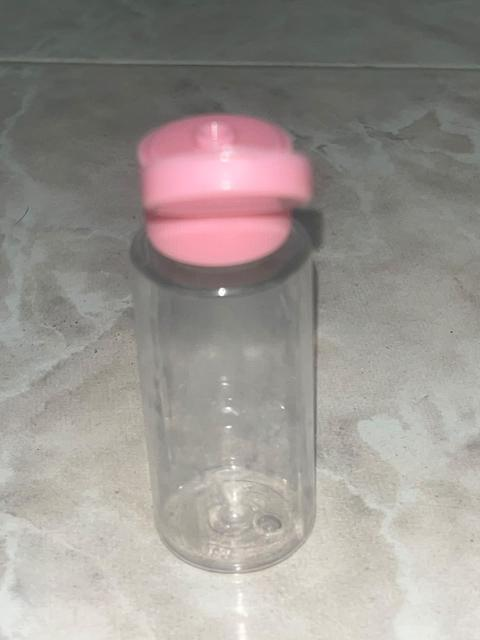PET: (83, 72, 390, 613)
